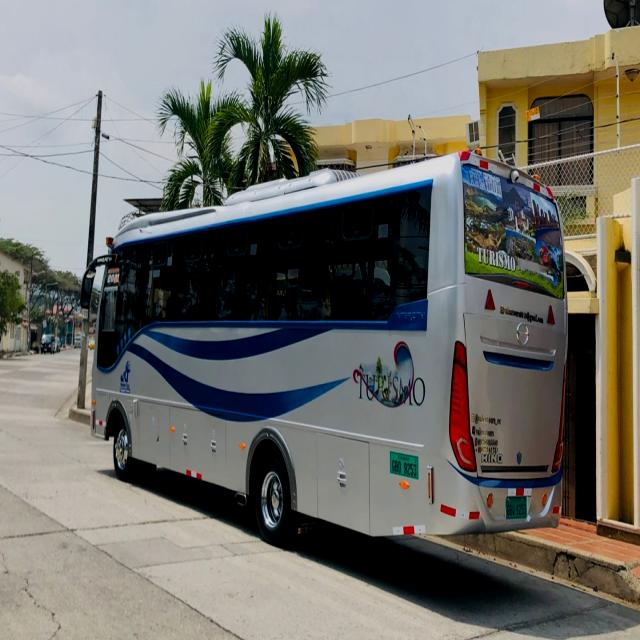BUS: (79, 148, 576, 554)
